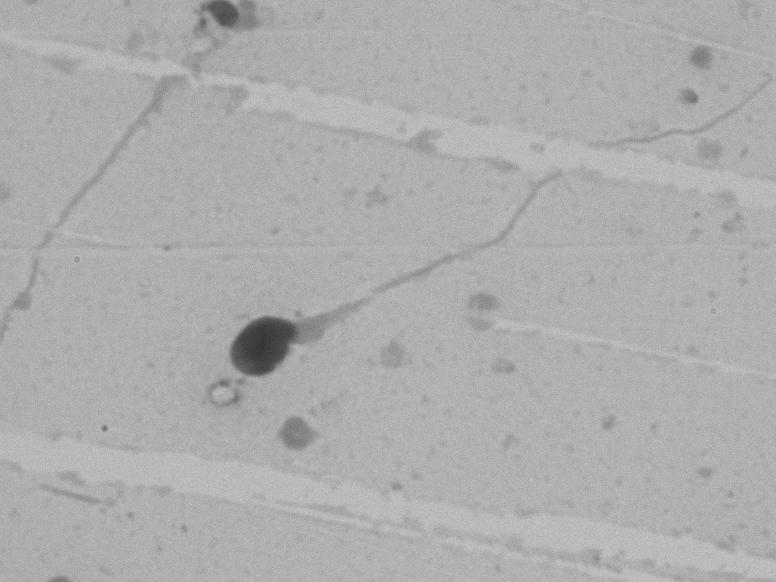Abnormal: (195, 157, 551, 400)
